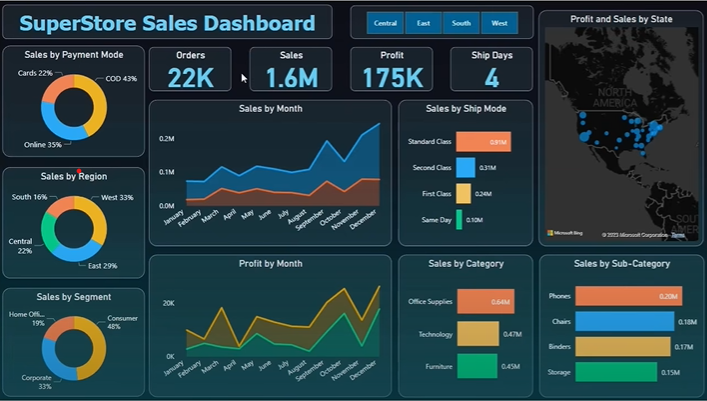

The page's visual inventory and layout, read from the dashboard file:
{"tool":"powerbi","page":{"name":"Page 1","canvas":[1280,720],"ordinal":0},"visuals":[{"type":"barChart","title":"Sales by Category","fields":{"Category":["SuperStore.Category"],"Y":["Sum(SuperStore.Sales)"]},"box":[650,525,225,157.1],"z":0},{"type":"barChart","title":"Sales by Sub Category","fields":{"Category":["SuperStore.Sub-Category"],"Y":["Sum(SuperStore.Sales)"]},"box":[892.9,347.6,194,235.7],"z":1000},{"type":"barChart","title":"Sales by Ship Mode","fields":{"Category":["SuperStore.Ship Mode"],"Y":["Sum(SuperStore.Sales)"]},"box":[650,347.6,225,163.1],"z":2000},{"type":"areaChart","title":"Monthly Sales by YoY","fields":{"Y":["Sum(SuperStore.Sales)"],"Category":["SuperStore.Order Date.Variation.Date Hierarchy.Month"],"Series":["SuperStore.Order Date.Variation.Date Hierarchy.Year"]},"box":[253.6,347.6,367.9,152.4],"z":3000},{"type":"areaChart","title":"Monthly Profit by YoY","fields":{"Category":["SuperStore.Order Date.Variation.Date Hierarchy.Month"],"Series":["SuperStore.Order Date.Variation.Date Hierarchy.Year"],"Y":["Sum(SuperStore.Profit)"]},"box":[253.6,525,367.9,157.1],"z":4000},{"type":"map","title":"Sum of Sales And Profit by State","fields":{"Category":["SuperStore.State"],"Size":["Sum(SuperStore.Sales)"]},"box":[729.8,67.9,357.1,254.8],"z":5000},{"type":"donutChart","title":"Sum of Sales by Segment","fields":{"Category":["SuperStore.Segment"],"Y":["Sum(SuperStore.Sales)"]},"box":[25,331,207.1,163.1],"z":6000},{"type":"donutChart","title":"Sum of Sales by Payment Mode","fields":{"Category":["SuperStore.Payment Mode"],"Y":["Sum(SuperStore.Sales)"]},"box":[25,525,207.1,157.1],"z":7000},{"type":"slicer","fields":{"Values":["SuperStore.Region"]},"box":[428.6,11.9,301.2,40.5],"z":8000},{"type":"textbox","box":[10.7,11.9,390.5,56],"z":9000},{"type":"card","title":"Total Sales","fields":{"Values":["Sum(SuperStore.Sales)"]},"box":[10.7,95.2,148.8,77.4],"z":10000},{"type":"card","title":"Total Sales","fields":{"Values":["Sum(SuperStore.Sales)"]},"box":[344,96.4,148.8,77.4],"z":11000},{"type":"card","title":"Total Profit","fields":{"Values":["Sum(SuperStore.Profit)"]},"box":[178.6,95.2,148.8,77.4],"z":12000},{"type":"card","title":"Total Sales","fields":{"Values":["Avg(SuperStore.AverageDelivery)"]},"box":[504.8,96.4,148.8,77.4],"z":13000}]}

Visuals, with their boxes in screenshot pixels (x1, y1, x2, y2), scaled from the page's 1280x720 canvas onto the 707x401 screenshot:
"Sales by Category" barChart: locate(359, 292, 483, 380)
"Sales by Sub Category" barChart: locate(493, 194, 600, 325)
"Sales by Ship Mode" barChart: locate(359, 194, 483, 284)
"Monthly Sales by YoY" areaChart: locate(140, 194, 343, 278)
"Monthly Profit by YoY" areaChart: locate(140, 292, 343, 380)
"Sum of Sales And Profit by State" map: locate(403, 38, 600, 180)
"Sum of Sales by Segment" donutChart: locate(14, 184, 128, 275)
"Sum of Sales by Payment Mode" donutChart: locate(14, 292, 128, 380)
slicer - SuperStore.Region: locate(237, 7, 403, 29)
textbox: locate(6, 7, 222, 38)
"Total Sales" card: locate(6, 53, 88, 96)
"Total Sales" card: locate(190, 54, 272, 97)
"Total Profit" card: locate(99, 53, 181, 96)
"Total Sales" card: locate(279, 54, 361, 97)
